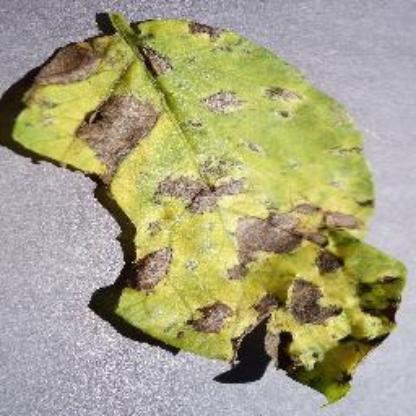Early-Blight: (10, 5, 416, 403)
